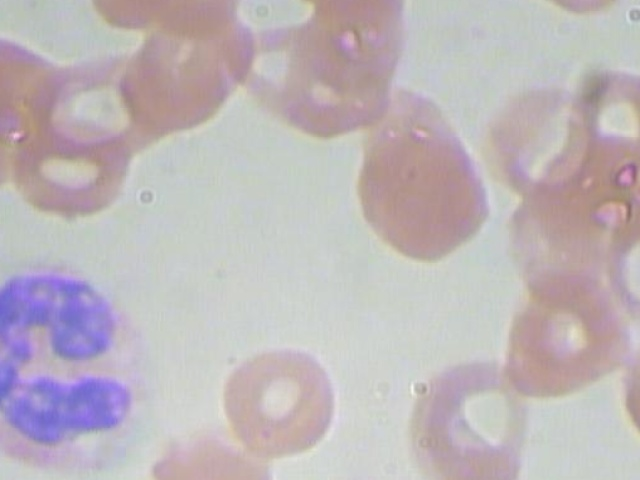RBC: (347, 83, 497, 262), (393, 339, 536, 480), (204, 333, 352, 467), (15, 31, 162, 162), (114, 5, 261, 135), (470, 59, 595, 203), (513, 249, 639, 386), (0, 109, 137, 221), (572, 48, 640, 167), (138, 432, 279, 480), (606, 184, 640, 333), (283, 470, 423, 480), (291, 477, 419, 480)
WBC: (0, 242, 184, 480)
